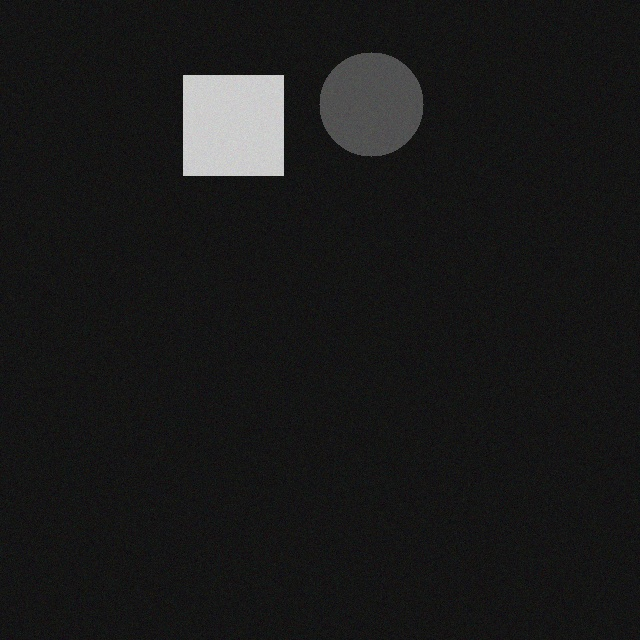circle: (320, 59, 424, 163)
square: (184, 82, 284, 182)
